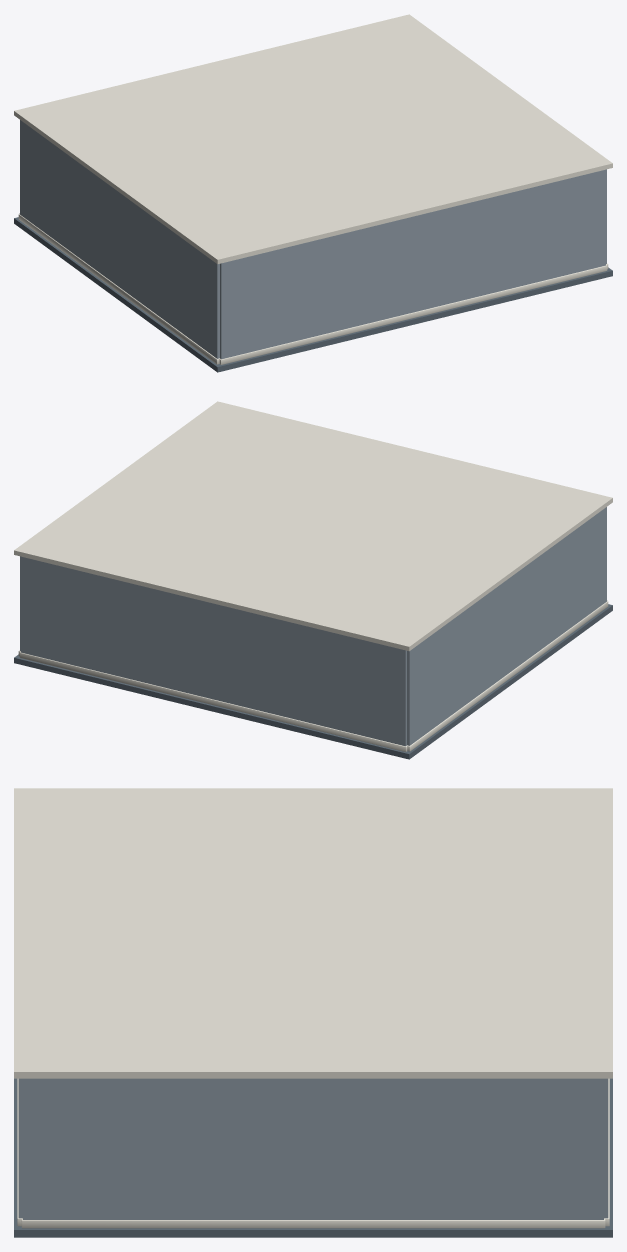
The model's file is room.glb.
The picture shows the model from 3 angles, top to bottom: view 1: azimuth 30°, elevation 25°; view 2: azimuth 150°, elevation 25°; view 3: azimuth 270°, elevation 25°; orthographic projection. The views are drawn at different scales.
Visible parts, largest first — view 1: Furnished room experience; view 2: Furnished room experience; view 3: Furnished room experience.
Part boxes in pixels (box(x1,y1,x2,y2)): Furnished room experience: box(14, 14, 612, 372); Furnished room experience: box(14, 401, 612, 759); Furnished room experience: box(14, 788, 612, 1237).
Size of the model in its own units: 18.5 by 5.04 by 16.5.
